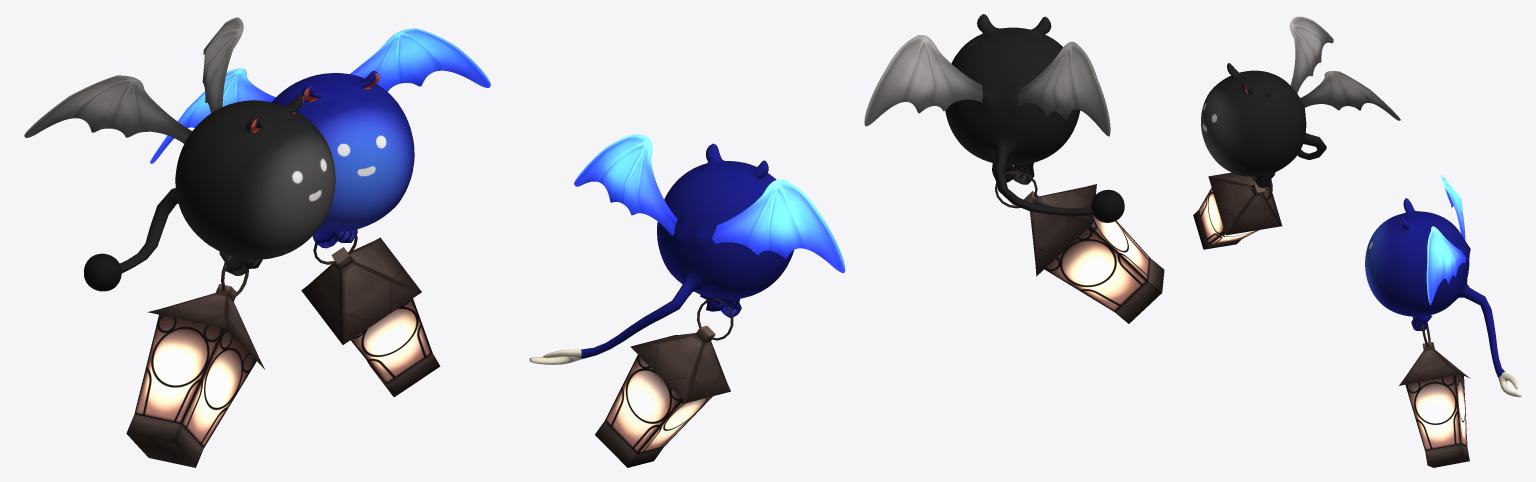
Rendered from sphere_bat_man_brave_fencer_musashi.glb.
3 renders of one model, left to right at view 1: azimuth 30°, elevation 25°; view 2: azimuth 150°, elevation 25°; view 3: azimuth 270°, elevation 25°, orthographic. The views are drawn at different scales.
Visible parts, largest first — view 1: wings.001_3, wings_2; view 2: wings_2, wings.001_3; view 3: wings.001_3, wings_2.
Part boxes in pixels (<box>): wings.001_3: <box>24,17,335,467</box>; wings_2: <box>150,28,490,397</box>; wings_2: <box>529,134,845,467</box>; wings.001_3: <box>864,14,1164,323</box>; wings.001_3: <box>1193,16,1400,249</box>; wings_2: <box>1365,175,1521,467</box>.
Bounding box in the file's own units: 1.19 × 1.02 × 0.9158.
Materials: 6 (6 with a texture image).
